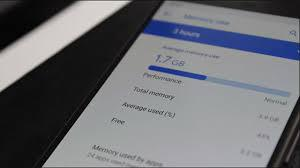Smartphone: (37, 0, 300, 168)
